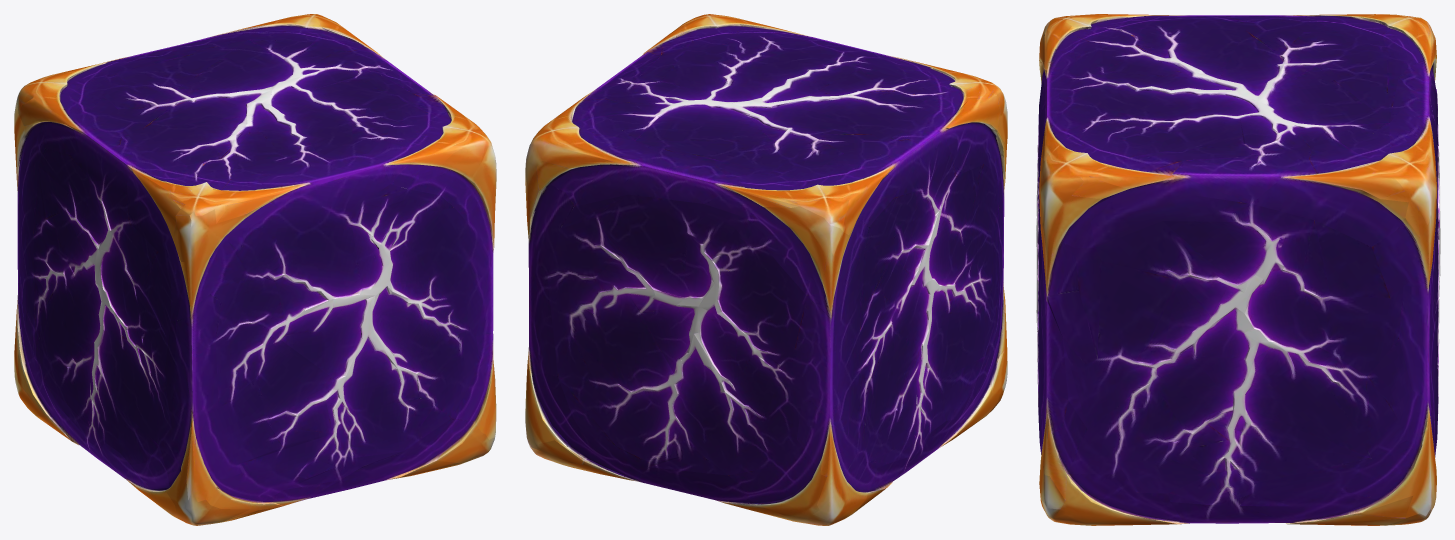
File: Dé foudre v.1.glb
3 views of the same model, side by side, from view 1: azimuth 30°, elevation 25°; view 2: azimuth 150°, elevation 25°; view 3: azimuth 270°, elevation 25° (orthographic). The views are drawn at different scales.
Parts seen in each view (by area): view 1: output_unwrapped; view 2: output_unwrapped; view 3: output_unwrapped.
Boxes of the visible parts, <box> form: output_unwrapped: <box>14,14,496,525</box>; output_unwrapped: <box>525,14,1007,525</box>; output_unwrapped: <box>1036,14,1440,525</box>.
Size of the model in its own units: 1.91 by 1.91 by 1.9.
1 material, 1 textured.
